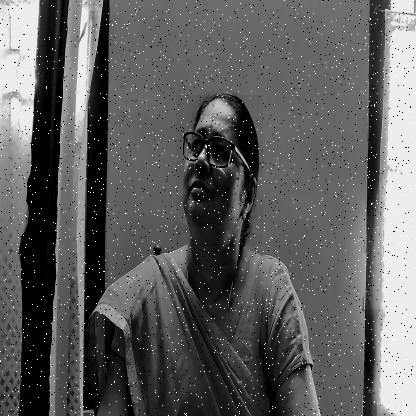Distracted: (176, 95, 263, 246)
